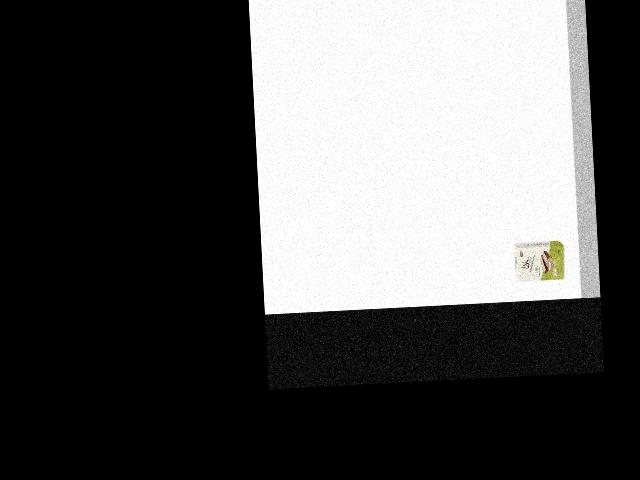chocolate: (512, 237, 567, 286)
